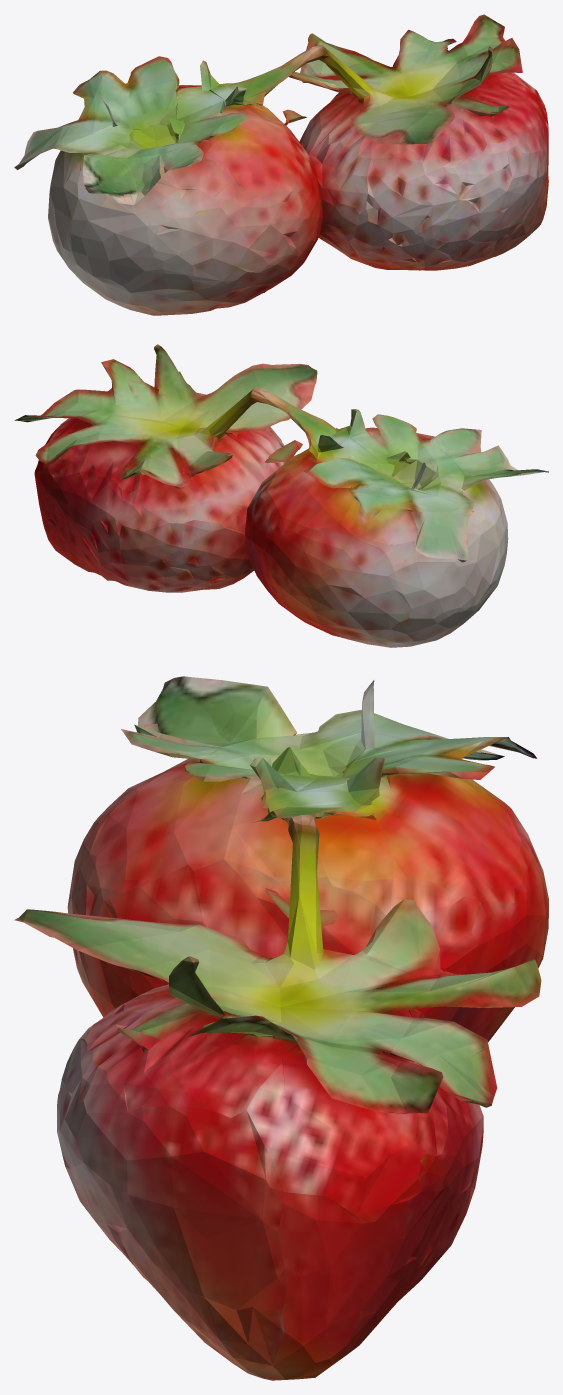
The model's file is berries.glb.
3 views of the same model, one above another, from view 1: azimuth 30°, elevation 25°; view 2: azimuth 150°, elevation 25°; view 3: azimuth 270°, elevation 25° (orthographic). The views are drawn at different scales.
Visible parts, largest first — view 1: geometry_0; view 2: geometry_0; view 3: geometry_0.
Boxes of the visible parts, x1,y1,x2,y2 form: geometry_0: [14, 14, 548, 315]; geometry_0: [14, 344, 548, 647]; geometry_0: [14, 676, 548, 1380].
Size of the model in its own units: 0.9997 by 0.4625 by 0.5455.
1 material, 1 textured.
